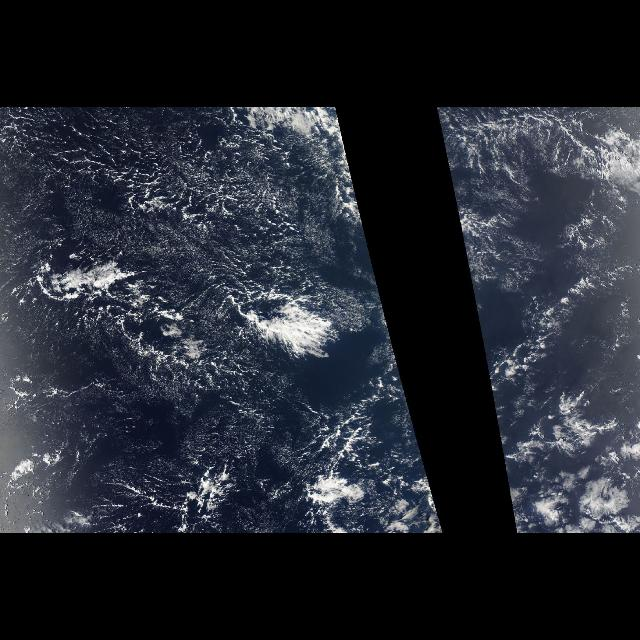Gravel: (2, 109, 320, 403)
Sugar: (6, 112, 312, 264), (21, 318, 301, 440)
